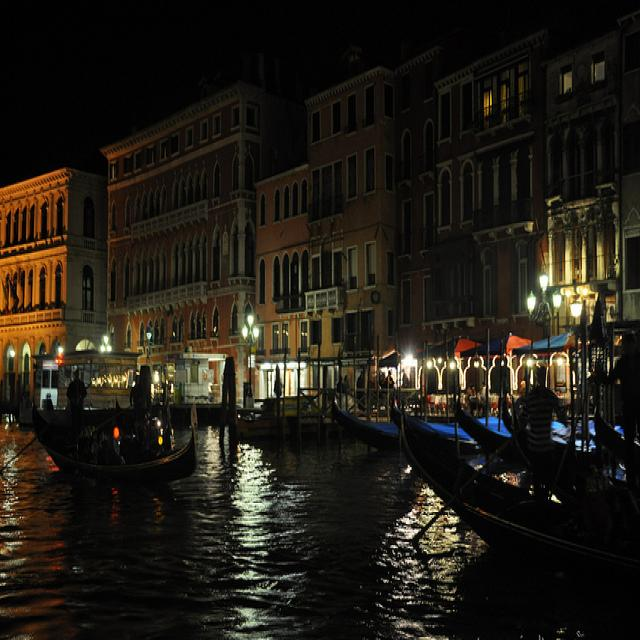Boat: (397, 381, 640, 568), (318, 386, 637, 465), (22, 382, 208, 497)
People: (515, 360, 570, 498), (65, 368, 91, 439), (127, 374, 152, 431)
